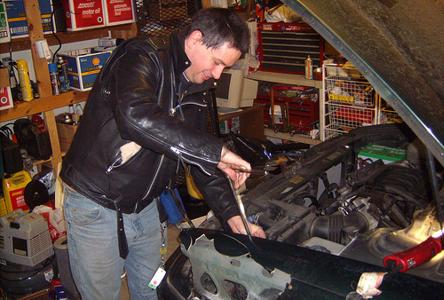person: (60, 5, 269, 300)
